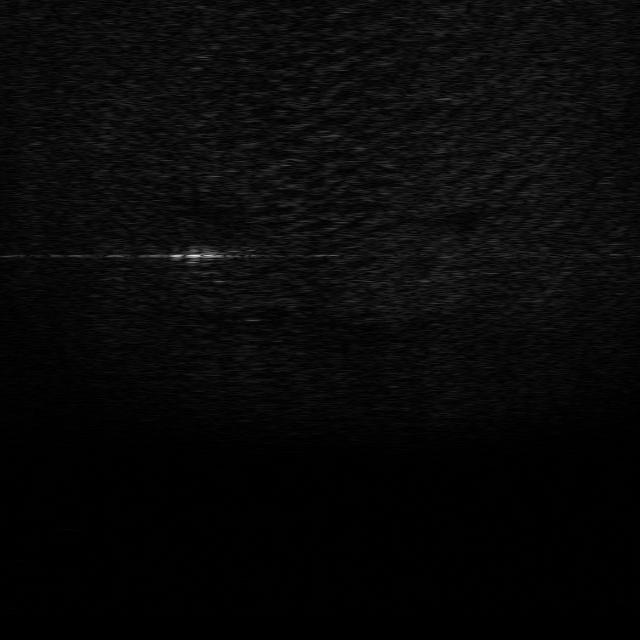plane: (175, 232, 250, 282)
